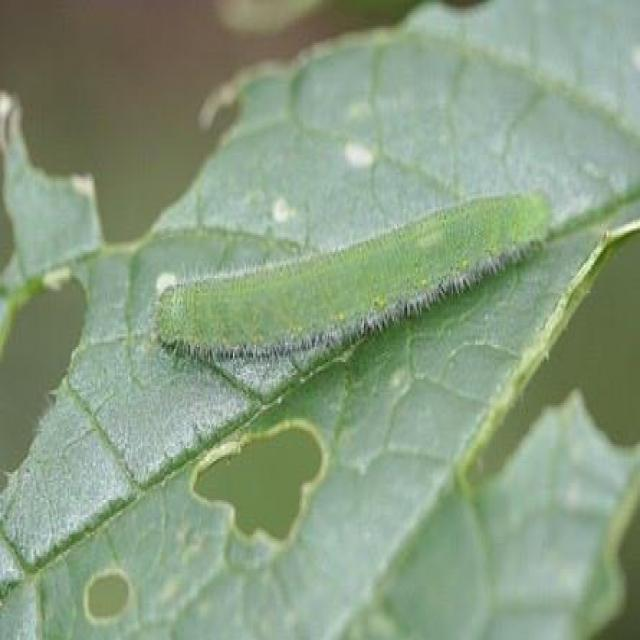armyworm: (153, 181, 561, 371)
